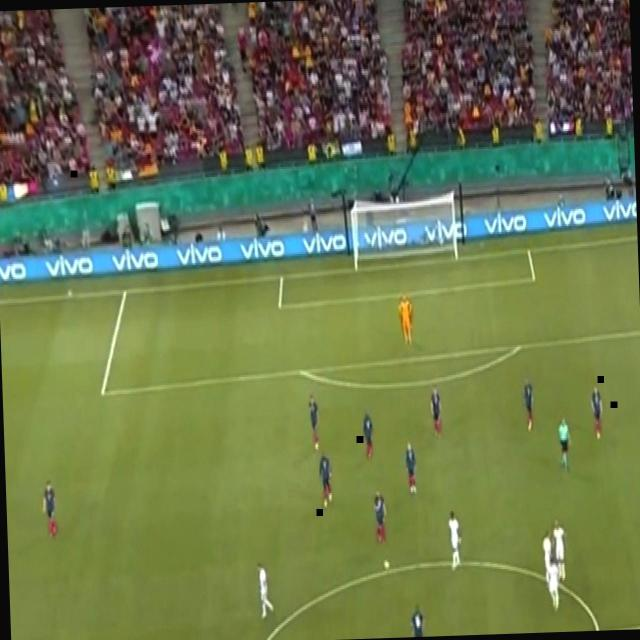ball: (383, 559, 390, 569)
player-white: (551, 516, 569, 585), (445, 508, 463, 572), (256, 559, 274, 620), (556, 416, 574, 476), (41, 478, 58, 540), (396, 291, 414, 347), (317, 448, 333, 508), (372, 489, 388, 547), (589, 384, 604, 442), (546, 555, 560, 613), (404, 439, 418, 496), (307, 393, 321, 450), (407, 601, 429, 637), (429, 384, 443, 439), (521, 377, 535, 432), (540, 528, 554, 582), (361, 412, 375, 461)
